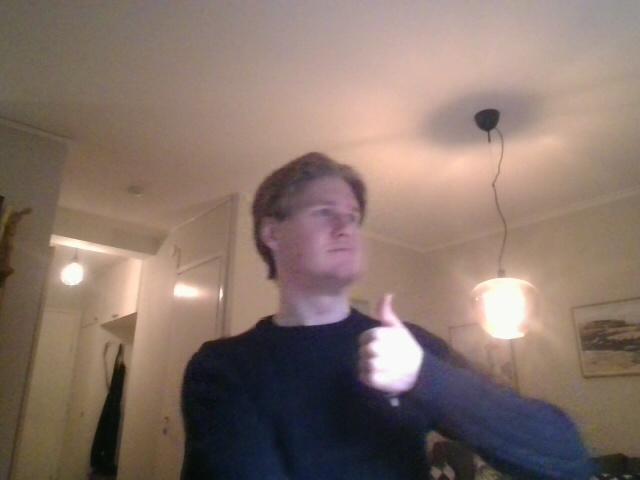ThumbsUp: (355, 293, 416, 396)
